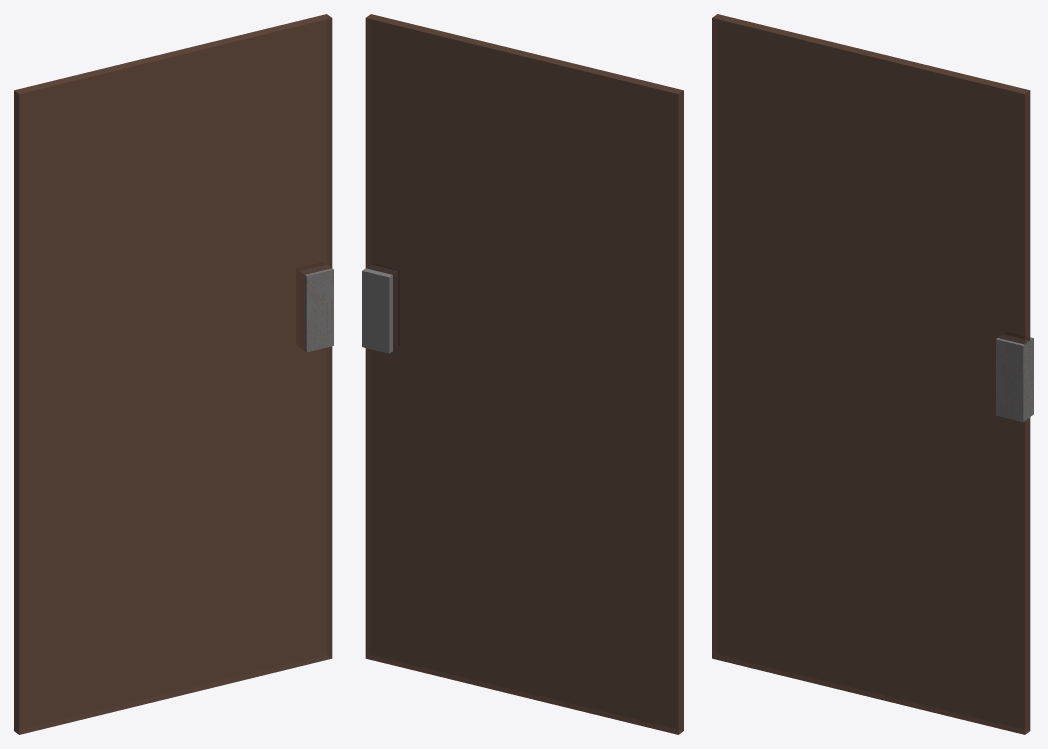
Rendered from puertaizquierda.dae.
The picture shows the model from 3 angles, left to right: view 1: azimuth 30°, elevation 25°; view 2: azimuth 150°, elevation 25°; view 3: azimuth 330°, elevation 25°; orthographic projection.
Visible parts, largest first — view 1: group_0 (×2); view 2: group_0 (×2); view 3: group_0 (×2).
Boxes of the visible parts, x1,y1,x2,y2 form: group_0 (×2): (14,14,333,734); group_0 (×2): (362,14,683,734); group_0 (×2): (712,14,1033,734).
Size of the model in its own units: 40.55 by 2.38 by 79.35.
